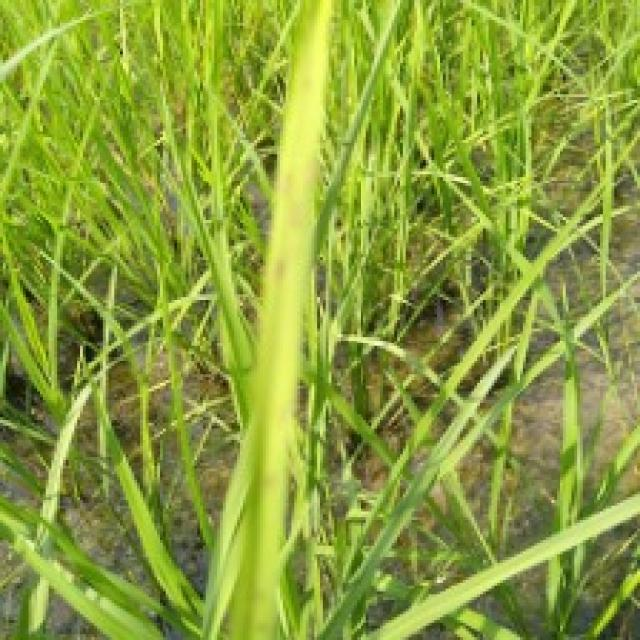Rice___Brown_Spot: (197, 2, 332, 637)
